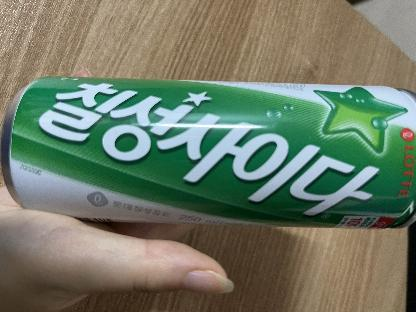Can: (0, 73, 415, 229)
